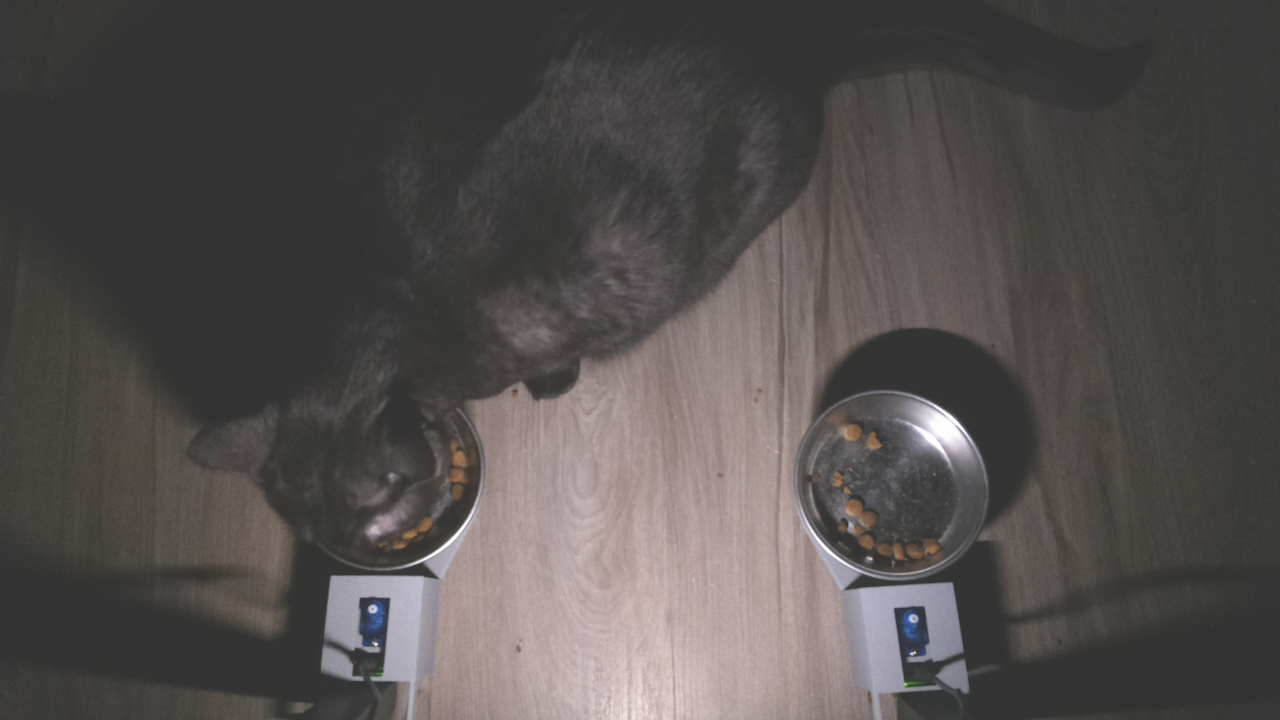open_bowl: (791, 386, 1006, 585)
saki_eating: (180, 333, 511, 585)
